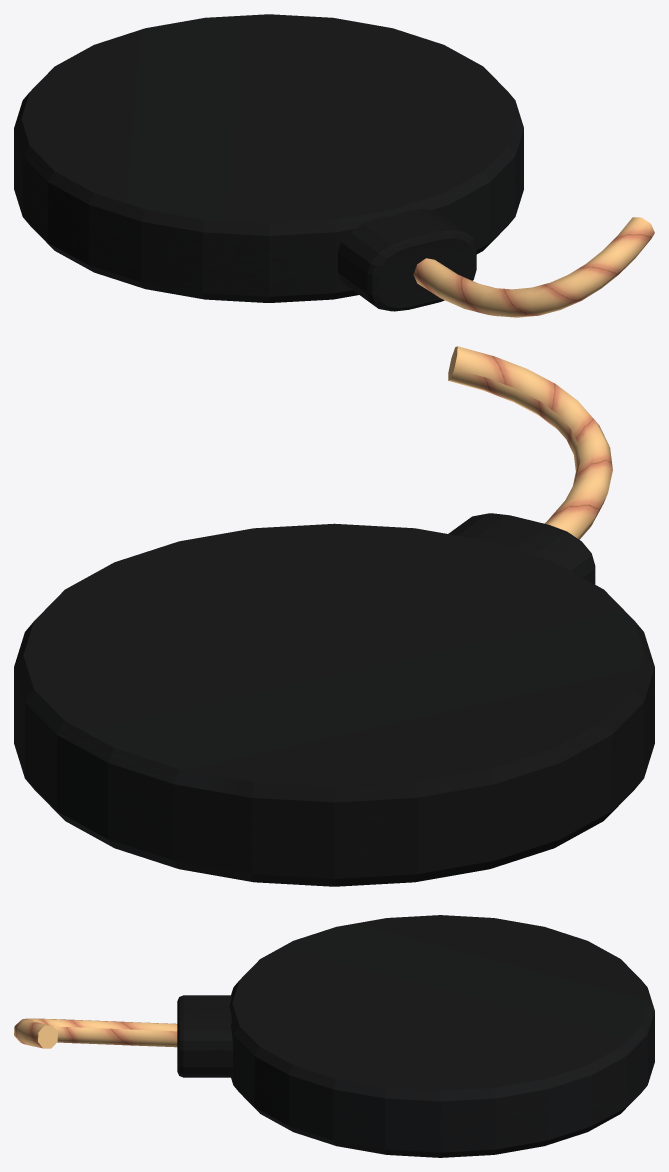
The model's file is bomb.fbx.
The picture shows the model from 3 angles, top to bottom: view 1: azimuth 30°, elevation 25°; view 2: azimuth 150°, elevation 25°; view 3: azimuth 270°, elevation 25°; orthographic projection. The views are drawn at different scales.
Visible parts, largest first — view 1: bomb, bomb_top, bomb_wick; view 2: bomb, bomb_wick, bomb_top; view 3: bomb, bomb_top, bomb_wick.
Part boxes in pixels (bbox=[...]): bomb: bbox=[14, 14, 523, 302]; bomb_top: bbox=[338, 208, 476, 311]; bomb_wick: bbox=[413, 217, 654, 317]; bomb: bbox=[14, 523, 654, 886]; bomb_wick: bbox=[448, 346, 612, 539]; bomb_top: bbox=[448, 513, 595, 584]; bomb: bbox=[229, 915, 654, 1157]; bomb_top: bbox=[177, 995, 232, 1077]; bomb_wick: bbox=[14, 1018, 177, 1048].
Bounding box in the file's own units: 68.9 × 17.86 × 103.
